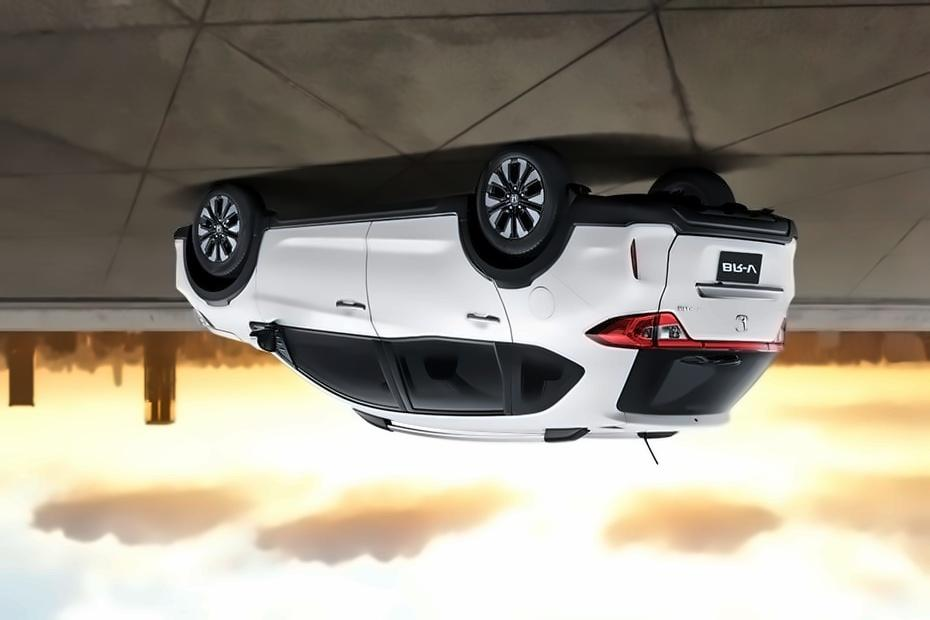Car boot: (604, 203, 807, 432)
Driver-s door - -F-R-: (241, 215, 412, 434)
Fender - -F-R-: (167, 223, 268, 346)
Fender - -R-R-: (481, 243, 632, 452)
Passenger-s door - -R-R-: (350, 195, 524, 449)
Rear bumper: (567, 180, 807, 281)
Rear light - -R-: (583, 311, 708, 354)
Side bumper - -R-: (257, 191, 457, 267)
Side mirror - -R-: (246, 319, 288, 359)
